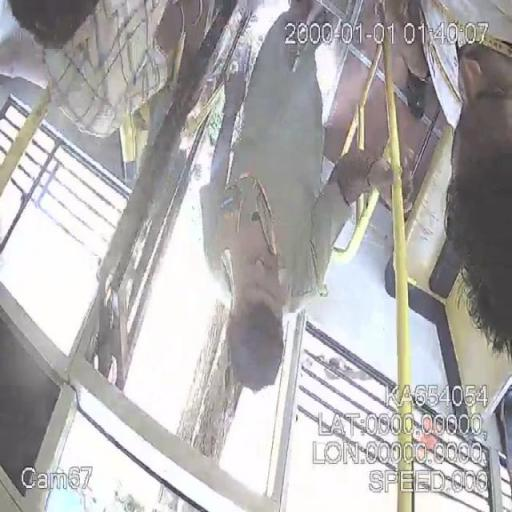persona: (198, 0, 407, 402), (416, 0, 509, 394)
